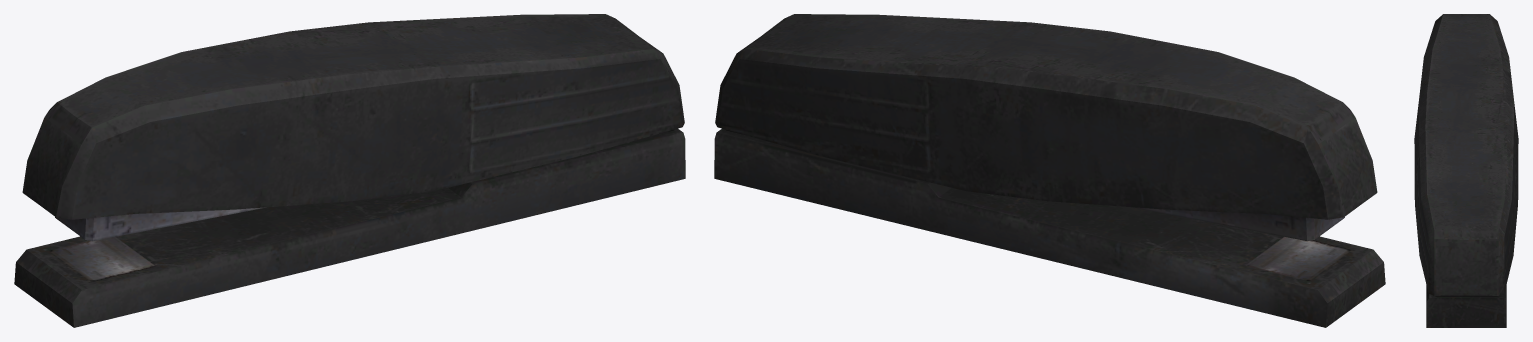
The model's file is stapler.DAE.
The picture shows the model from 3 angles, left to right: view 1: azimuth 30°, elevation 25°; view 2: azimuth 150°, elevation 25°; view 3: azimuth 270°, elevation 25°; orthographic projection. The views are drawn at different scales.
Visible parts, largest first — view 1: stapler; view 2: stapler; view 3: stapler.
Boxes of the visible parts, <box> form: stapler: <box>14,14,685,327</box>; stapler: <box>714,14,1385,327</box>; stapler: <box>1414,14,1518,327</box>.
Size of the model in its own units: 25.34 by 7.63 by 5.47.
